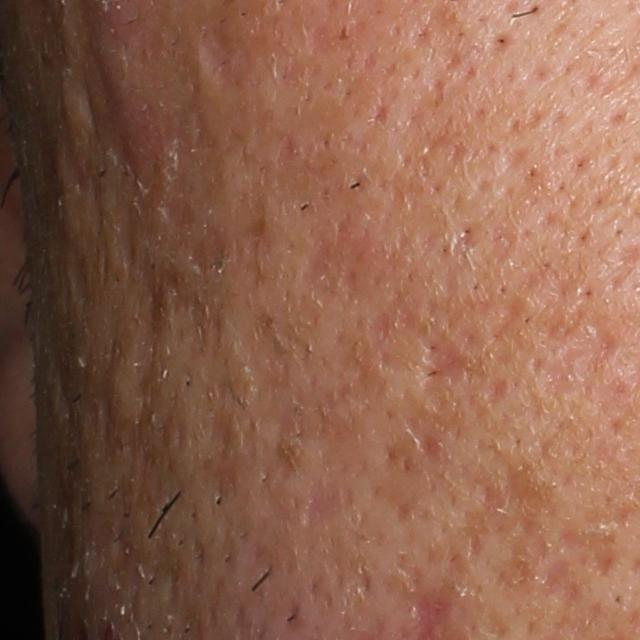atrophic_scar: (465, 463, 559, 602), (366, 296, 475, 403), (535, 317, 617, 414), (123, 253, 174, 391), (195, 19, 264, 90), (562, 522, 622, 579), (486, 294, 528, 343), (449, 220, 484, 257), (478, 377, 512, 414)
